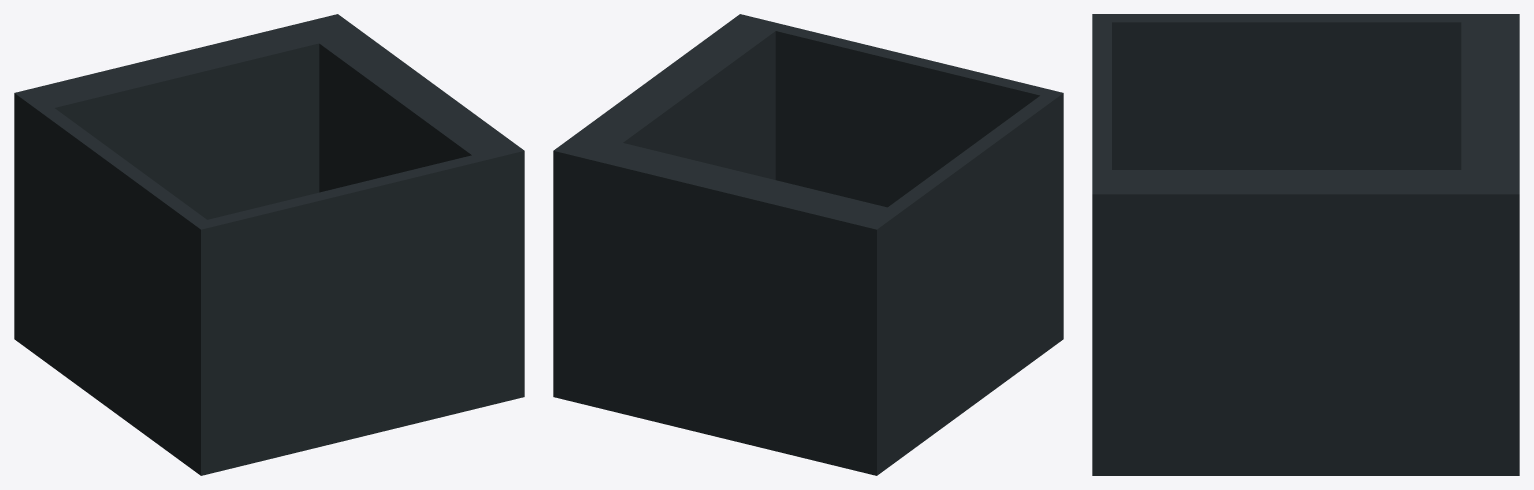
File: shelf2.fbx
3 views of the same model, side by side, from view 1: azimuth 30°, elevation 25°; view 2: azimuth 150°, elevation 25°; view 3: azimuth 270°, elevation 25° (orthographic). The views are drawn at different scales.
Parts seen in each view (by area): view 1: Cube; view 2: Cube; view 3: Cube.
Part boxes in pixels (x1,y1,x2,y2): Cube: (14, 14, 524, 475); Cube: (553, 14, 1063, 475); Cube: (1092, 14, 1519, 475).
Bounding box in the file's own units: 220 × 160 × 220.
